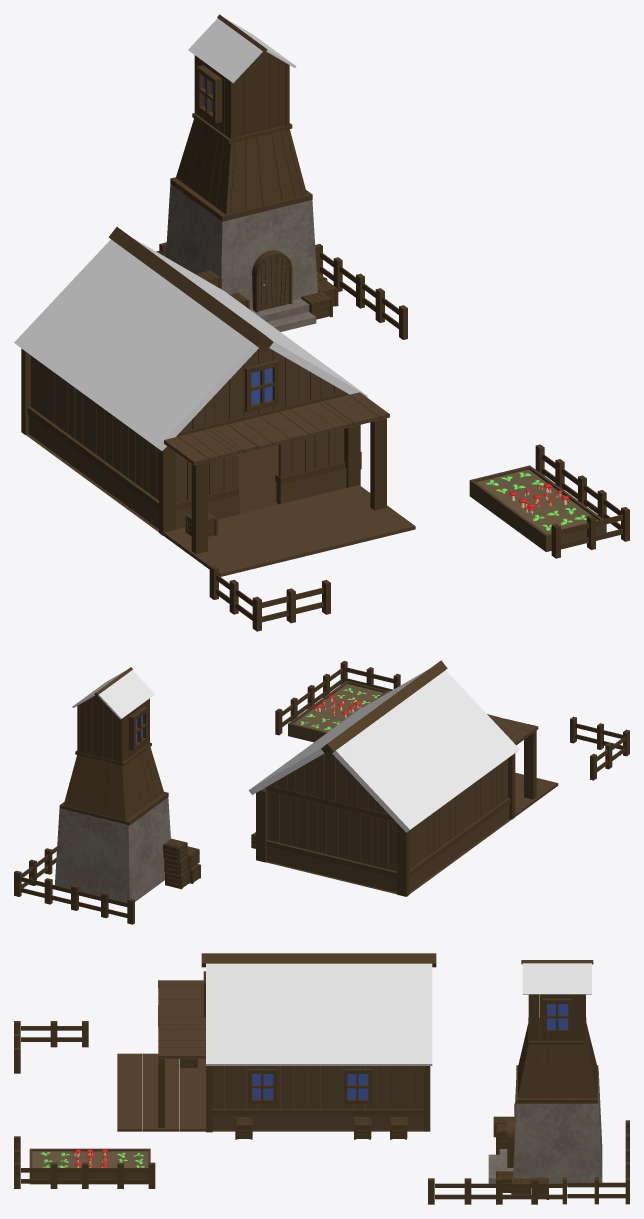
File: Gatherer-Hut-Set.fbx
3 views of the same model, one above another, from view 1: azimuth 30°, elevation 25°; view 2: azimuth 150°, elevation 25°; view 3: azimuth 270°, elevation 25° (orthographic). The views are drawn at different scales.
Parts seen in each view (by area): view 1: SM_GathererHut_Roof, SM_GathererHut_Walls, SM_GathererHut_Porch, SM_Mill_Top, SM_Mill_Base, SM_Plant_Bed, SM_Medium_Corner_Fence, SM_Mill_Roof, SM_Small_Corner_Fence, SM_Large_Corner_Fence, SM_Mill_Crate_Bundle; view 2: SM_GathererHut_Walls, SM_GathererHut_Roof, SM_Mill_Top, SM_Mill_Base, SM_Plant_Bed, SM_Large_Corner_Fence, SM_GathererHut_Porch, SM_Medium_Corner_Fence, SM_Mill_Roof, SM_Mill_Crate_Bundle, SM_Small_Corner_Fence; view 3: SM_GathererHut_Roof, SM_GathererHut_Walls, SM_GathererHut_Porch, SM_Mill_Base, SM_Mill_Top, SM_Plant_Bed, SM_Large_Corner_Fence, SM_Mill_Roof, SM_Medium_Corner_Fence, SM_Small_Corner_Fence, SM_Mill_Crate_Bundle, SM_Crate_B (+2 smaller).
Boxes of the visible parts, bbox=[...] form: SM_GathererHut_Roof: bbox=[14, 227, 367, 450]; SM_GathererHut_Walls: bbox=[21, 348, 360, 535]; SM_GathererHut_Porch: bbox=[163, 392, 415, 576]; SM_Mill_Top: bbox=[170, 51, 312, 221]; SM_Mill_Base: bbox=[166, 184, 317, 331]; SM_Plant_Bed: bbox=[469, 465, 606, 551]; SM_Medium_Corner_Fence: bbox=[535, 444, 629, 558]; SM_Mill_Roof: bbox=[188, 14, 296, 83]; SM_Small_Corner_Fence: bbox=[209, 565, 330, 631]; SM_Large_Corner_Fence: bbox=[156, 242, 407, 339]; SM_Mill_Crate_Bundle: bbox=[195, 270, 338, 319]; SM_GathererHut_Walls: bbox=[256, 753, 515, 896]; SM_GathererHut_Roof: bbox=[249, 660, 519, 832]; SM_Mill_Top: bbox=[59, 695, 168, 825]; SM_Mill_Base: bbox=[55, 797, 170, 902]; SM_Plant_Bed: bbox=[288, 681, 386, 742]; SM_Large_Corner_Fence: bbox=[14, 846, 134, 924]; SM_GathererHut_Porch: bbox=[369, 690, 558, 816]; SM_Medium_Corner_Fence: bbox=[275, 661, 400, 735]; SM_Mill_Roof: bbox=[72, 667, 154, 719]; SM_Mill_Crate_Bundle: bbox=[163, 838, 200, 889]; SM_Small_Corner_Fence: bbox=[570, 716, 629, 780]; SM_GathererHut_Roof: bbox=[201, 953, 436, 1065]; SM_GathererHut_Walls: bbox=[203, 971, 430, 1132]; SM_GathererHut_Porch: bbox=[117, 980, 205, 1131]; SM_Mill_Base: bbox=[488, 1069, 602, 1185]; SM_Mill_Top: bbox=[516, 994, 598, 1103]; SM_Plant_Bed: bbox=[29, 1148, 150, 1184]; SM_Large_Corner_Fence: bbox=[428, 1120, 629, 1204]; SM_Mill_Roof: bbox=[521, 960, 593, 994]; SM_Medium_Corner_Fence: bbox=[14, 1136, 155, 1188]; SM_Small_Corner_Fence: bbox=[14, 1021, 88, 1073]; SM_Mill_Crate_Bundle: bbox=[493, 1103, 548, 1199]; SM_Crate_B: bbox=[235, 1117, 252, 1139].
Size of the model in its own units: 844 by 1380 by 527.
